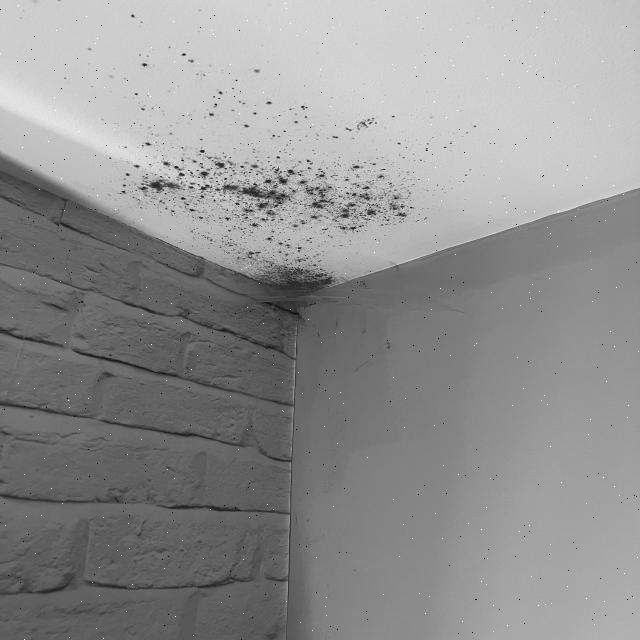stain marks: (13, 0, 506, 335)
